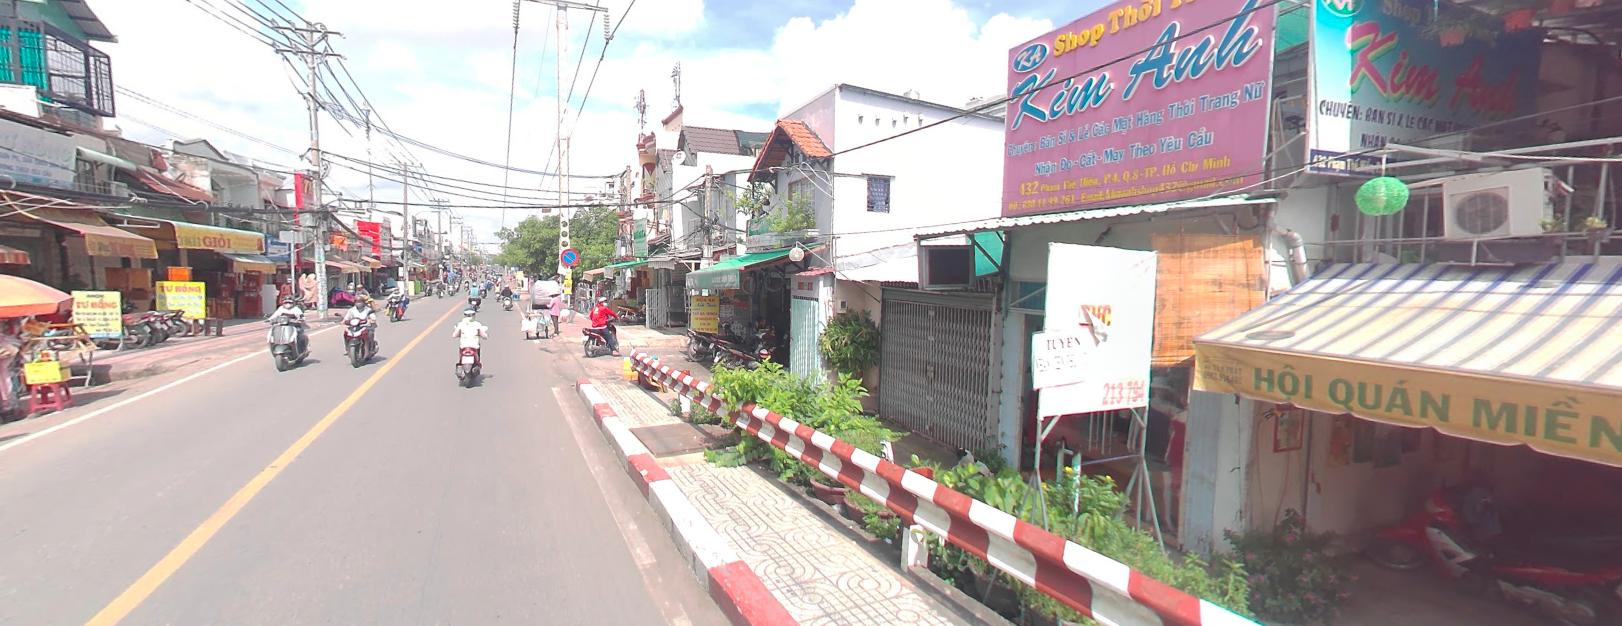Cam dung va do: (561, 247, 578, 264)
